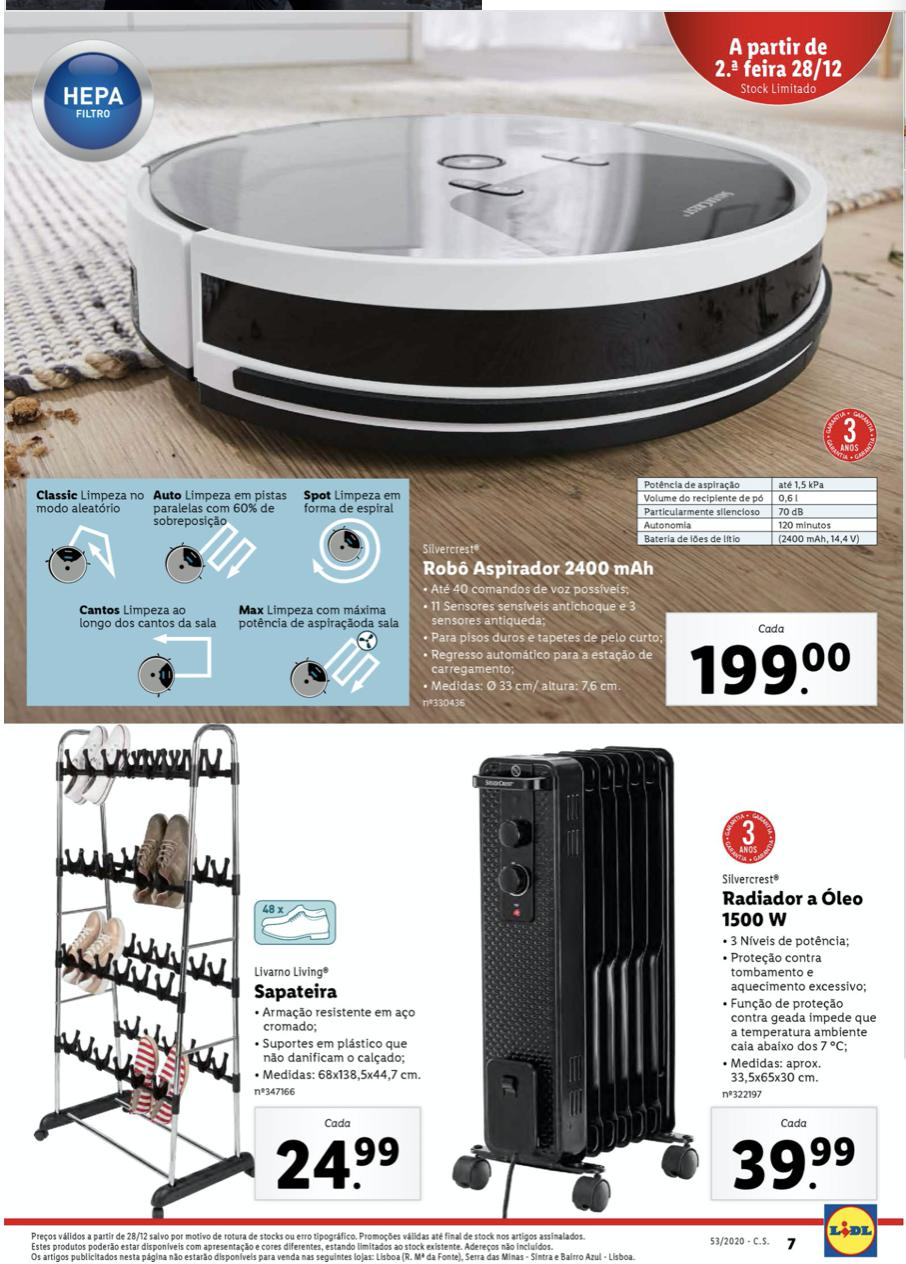name: (713, 883, 865, 936), (421, 554, 656, 583), (245, 976, 354, 1000)
price: (665, 617, 874, 706), (706, 1103, 879, 1203), (254, 1106, 423, 1203)
product: (10, 18, 893, 715), (449, 733, 884, 1206), (20, 736, 429, 1204)
